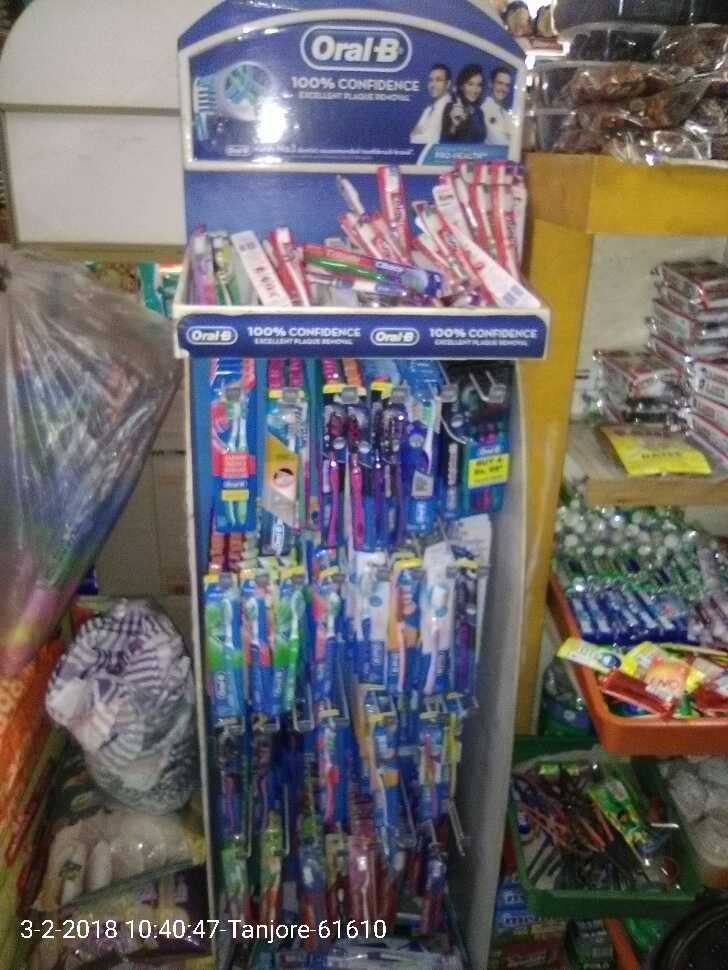oralb: (446, 360, 505, 515), (208, 358, 255, 531), (265, 387, 303, 551), (204, 572, 240, 719), (241, 566, 273, 714), (275, 567, 306, 711), (346, 392, 373, 552), (411, 393, 437, 533), (325, 383, 346, 545)
